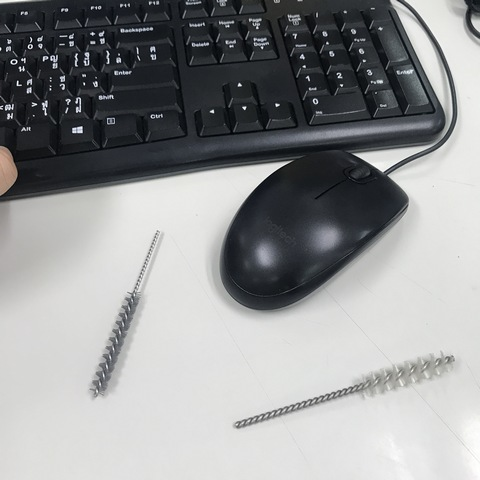Twist Brush-A: (88, 228, 162, 399)
Twist Brush-B: (232, 346, 459, 429)
